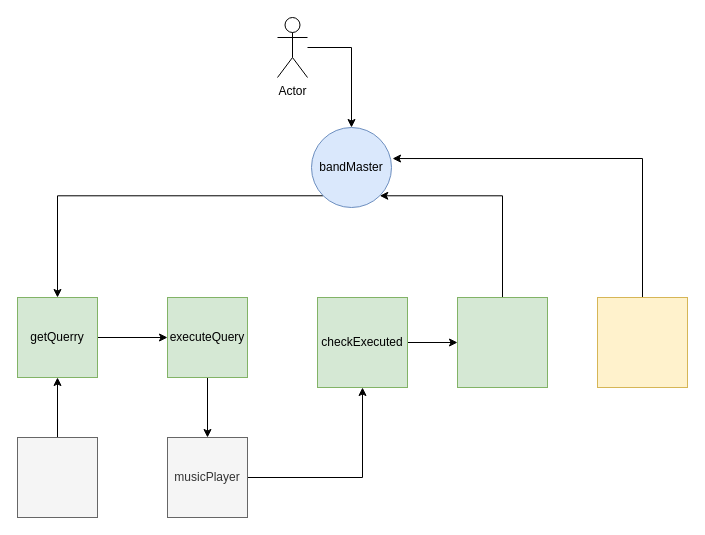
This 705x535 diagram has some shape labels left out. The shapes that lost their labels are listed below. From the top down, each one's centre as x and y in pixels, then its label:
At [502,342]: "answerClient".
At [642,342]: "Help".
At [57,477]: "parse and filter".
